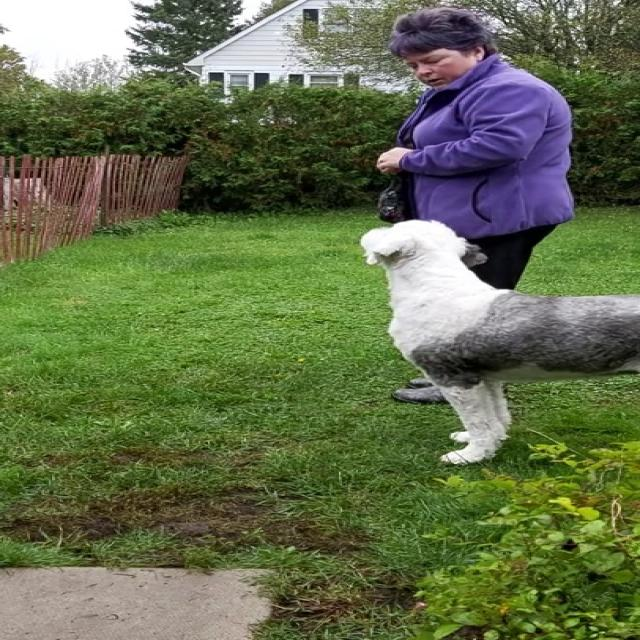Unleashed_Dog: (359, 215, 640, 465)
